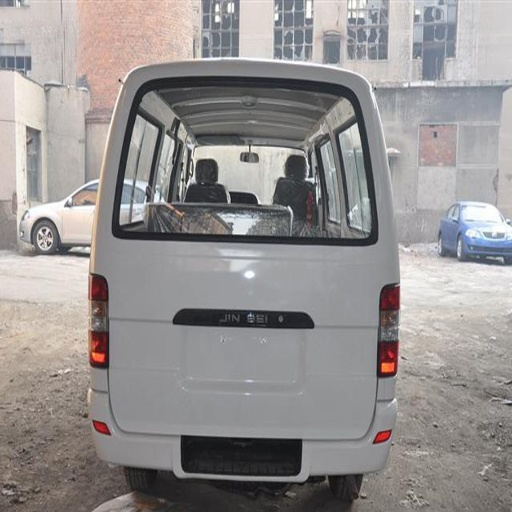back_bumper: (91, 371, 398, 507)
back_glass: (120, 80, 345, 237)
trunk: (106, 241, 386, 436), (395, 94, 463, 149)
